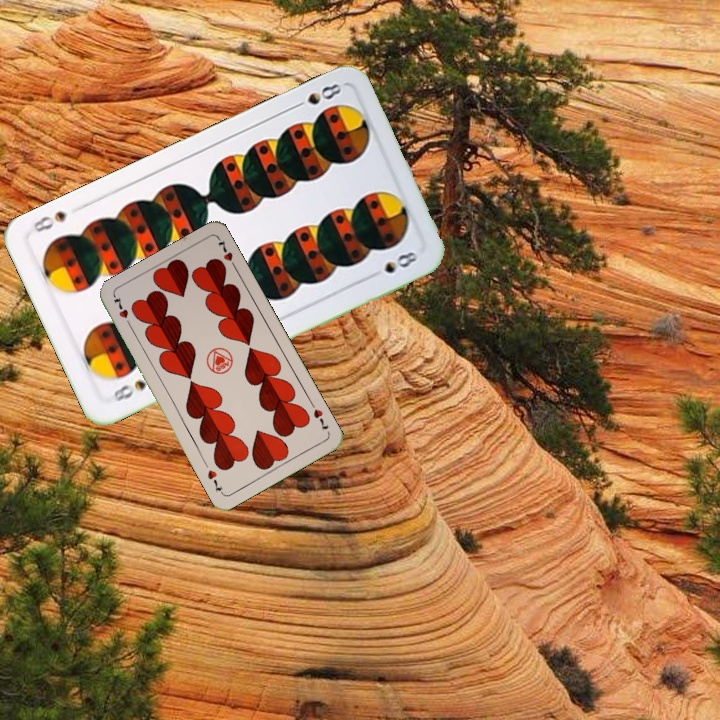H7: (110, 293, 135, 330), (306, 398, 331, 432)
S8: (288, 79, 344, 112), (108, 376, 149, 404)
